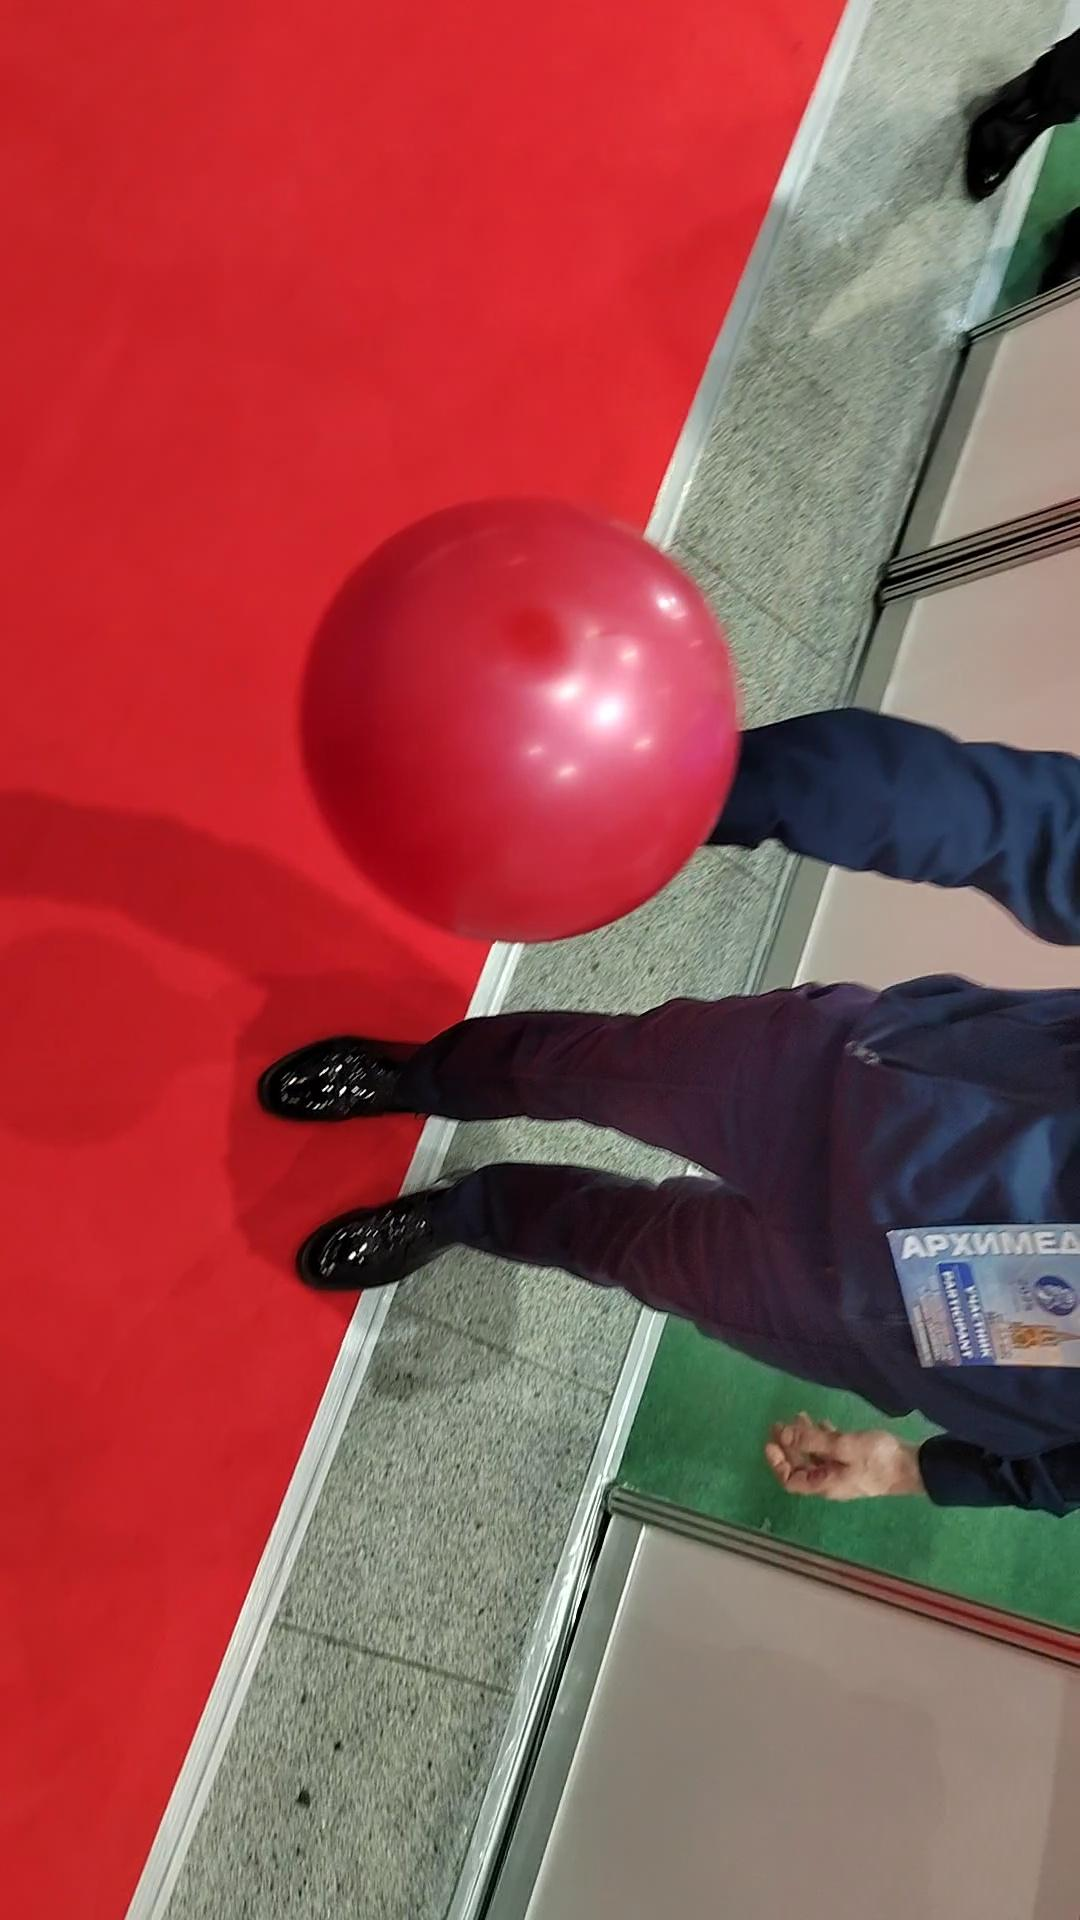red: (286, 492, 742, 957)
